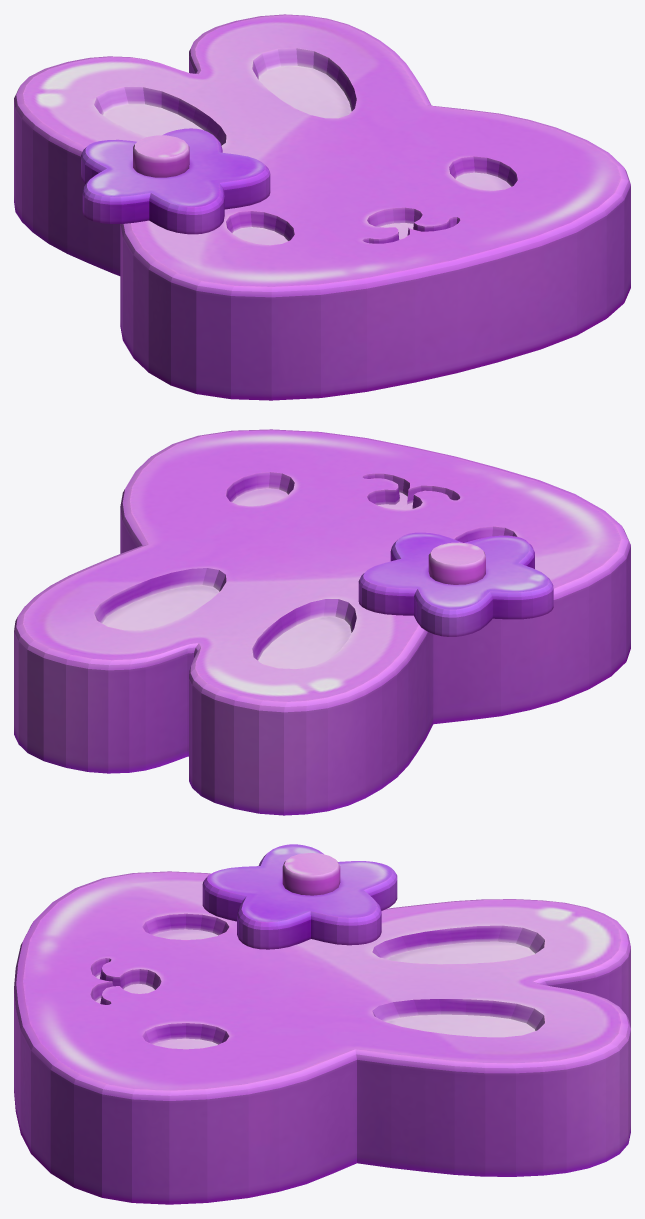
Rendered from 新糖果工厂-道具-糖果08.FBX.
3 views of the same model, one above another, from view 1: azimuth 30°, elevation 25°; view 2: azimuth 150°, elevation 25°; view 3: azimuth 270°, elevation 25° (orthographic).
Visible parts, largest first — view 1: 新糖果工厂-道具-糖果08; view 2: 新糖果工厂-道具-糖果08; view 3: 新糖果工厂-道具-糖果08.
Part boxes in pixels (x1,y1,x2,y2): 新糖果工厂-道具-糖果08: (14, 14, 630, 400); 新糖果工厂-道具-糖果08: (14, 429, 630, 815); 新糖果工厂-道具-糖果08: (14, 844, 630, 1204).
Bounding box in the file's own units: 7 × 2.23 × 8.05.
